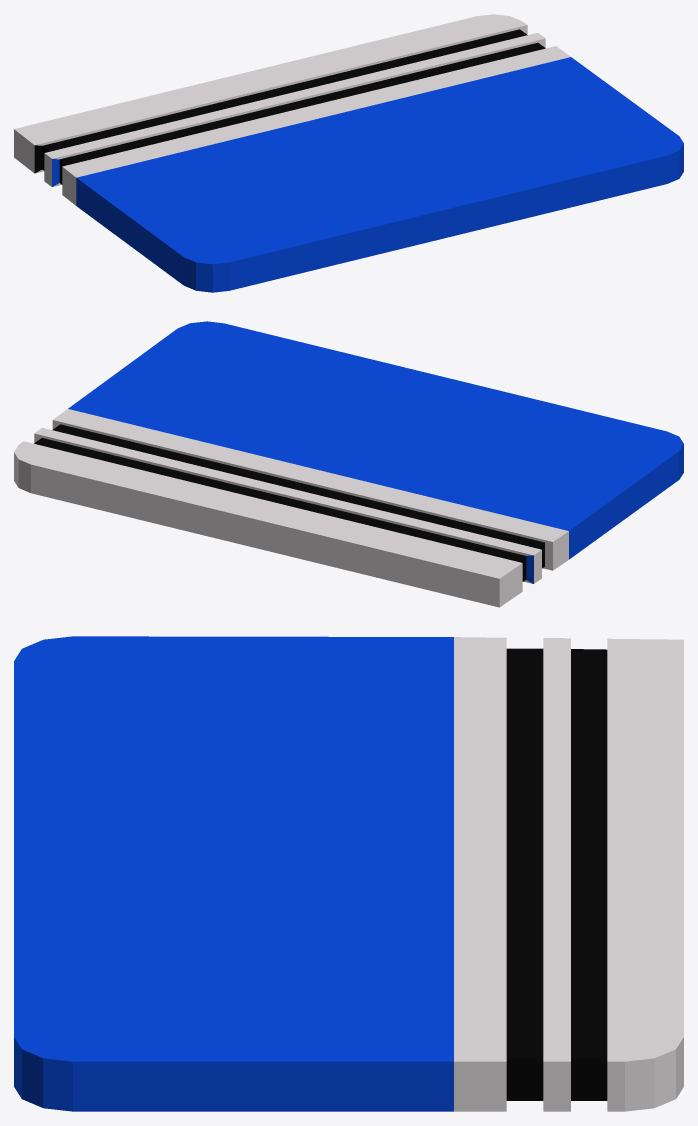
File: SM_Collection_08.fbx
3 renders of one model, top to bottom at view 1: azimuth 30°, elevation 25°; view 2: azimuth 150°, elevation 25°; view 3: azimuth 270°, elevation 25°, orthographic. The views are drawn at different scales.
Visible parts, largest first — view 1: SM_KeyCard_01; view 2: SM_KeyCard_01; view 3: SM_KeyCard_01.
Part boxes in pixels (box(x1,y1,x2,y2)): SM_KeyCard_01: box(14, 14, 683, 292); SM_KeyCard_01: box(14, 321, 683, 607); SM_KeyCard_01: box(14, 636, 683, 1111).
Size of the model in its own units: 31.34 by 1.72 by 20.86.
